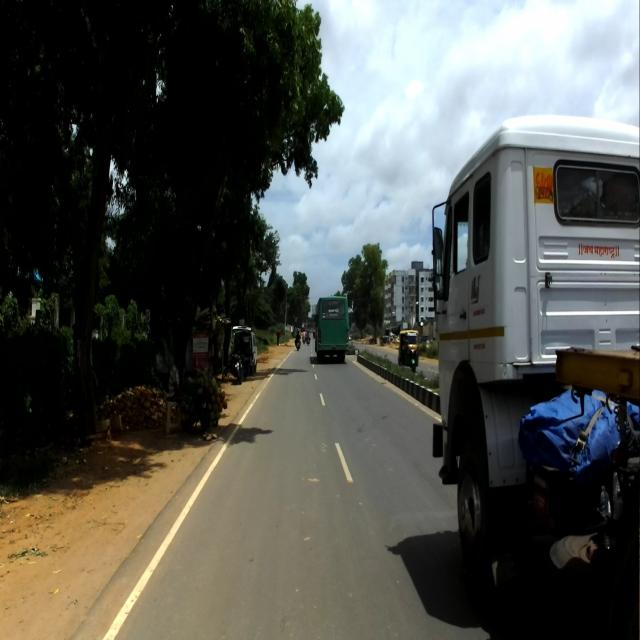truck: (430, 110, 639, 639)
